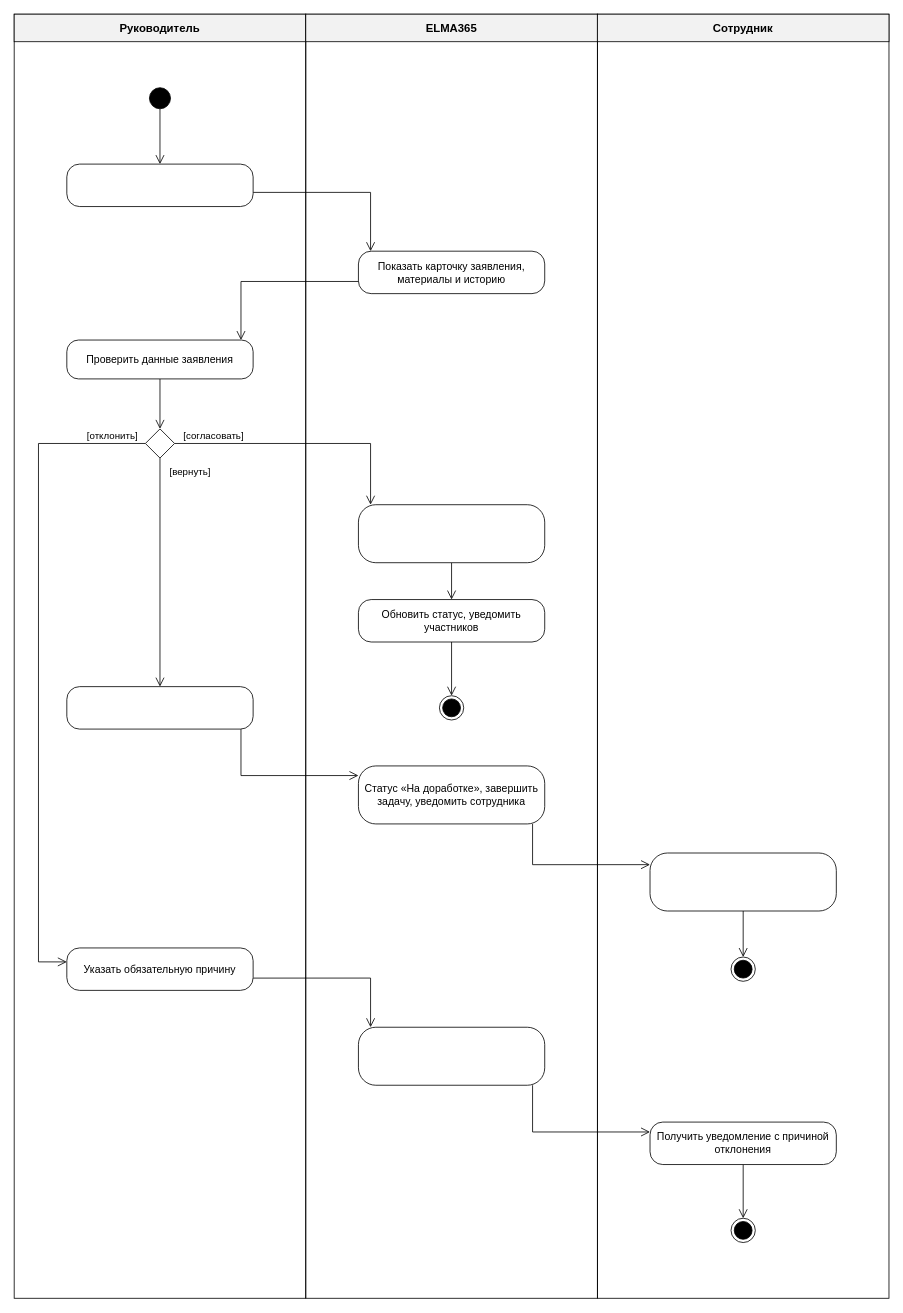
The diagram is 903 pixels wide and 1313 high, and some of its shapes have lost their labels. The centre of each missing label's shape, as x and y in pixels:
"Зафиксировать решение, передать на следующий этап маршрута" belongs at point (451, 533).
"Открыть задачу по кадровому заявлению" belongs at point (159, 185).
"Получить комментарий, исправить и отправить заявление (UC-1)" belongs at point (742, 881).
"Статус «Отклонено», завершить маршрут, уведомить сотрудника" belongs at point (451, 1055).
"Указать обязательный комментарий" belongs at point (159, 707).
